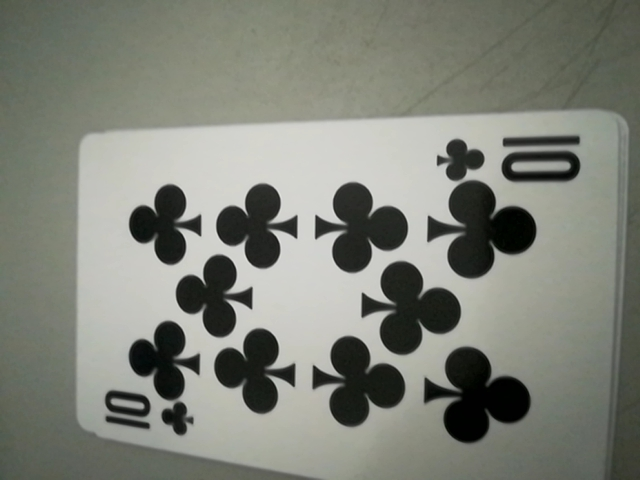mh 10: (434, 125, 589, 186), (96, 388, 197, 445)
